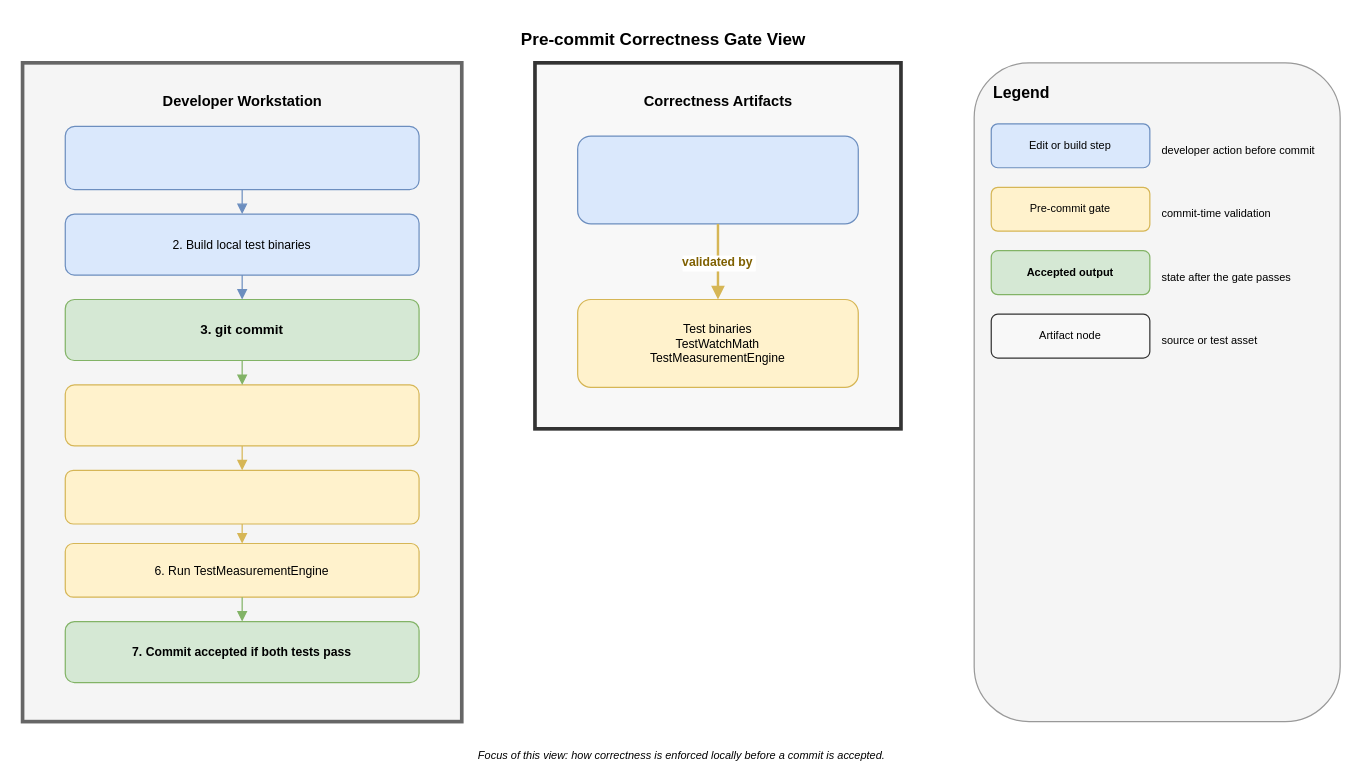
The diagram is 1362 pixels wide and 783 high, and some of its shapes have lost their labels. The box of each missing label's shape, as (x1, y1, x2, y2) in pixels:
1. Edit WatchMath or MeasurementEngine code: (64, 125, 419, 190)
4. .githooks/pre-commit: (64, 384, 419, 446)
5. Run TestWatchMath: (64, 469, 419, 524)
Source modules src/engine/WatchMath.* src/engine/MeasurementEngine.*: (576, 135, 858, 224)
